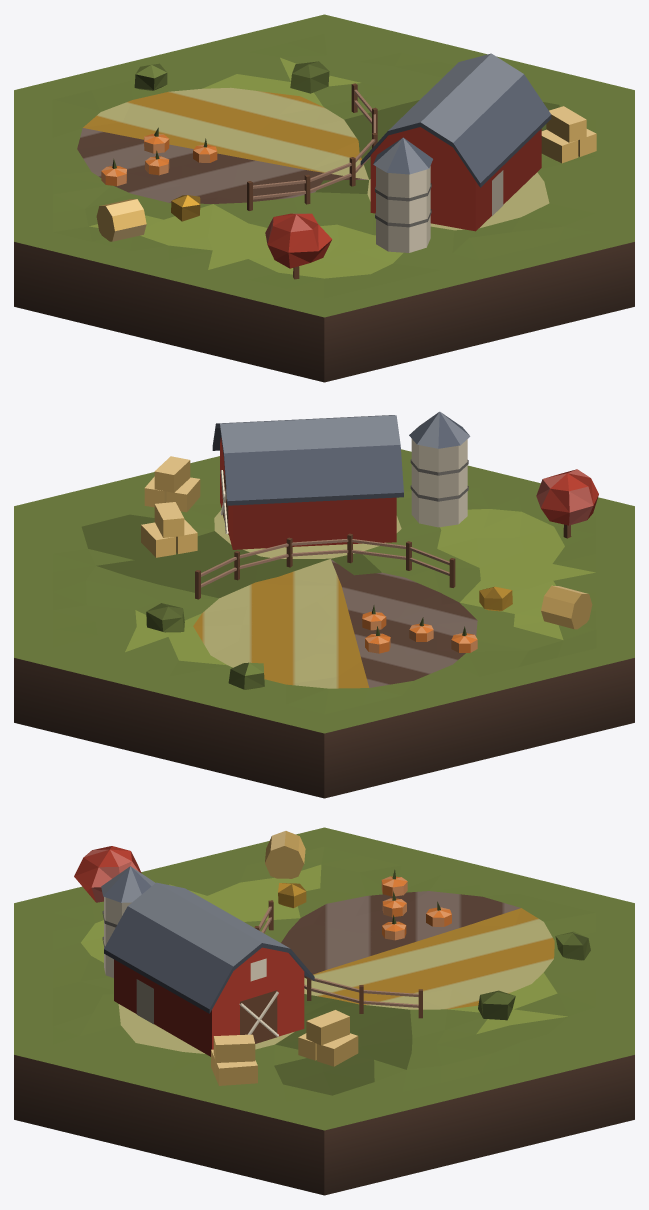
The model's file is SM_Tile_Farm_B.fbx.
3 views of the same model, one above another, from view 1: azimuth 30°, elevation 25°; view 2: azimuth 150°, elevation 25°; view 3: azimuth 270°, elevation 25° (orthographic).
Parts seen in each view (by area): view 1: SM_Tile_Farm_B; view 2: SM_Tile_Farm_B; view 3: SM_Tile_Farm_B.
Part boxes in pixels (<box>): SM_Tile_Farm_B: <box>14,14,634,382</box>; SM_Tile_Farm_B: <box>14,411,634,798</box>; SM_Tile_Farm_B: <box>14,827,634,1195</box>.
Size of the model in its own units: 20 by 5.2 by 17.32.
